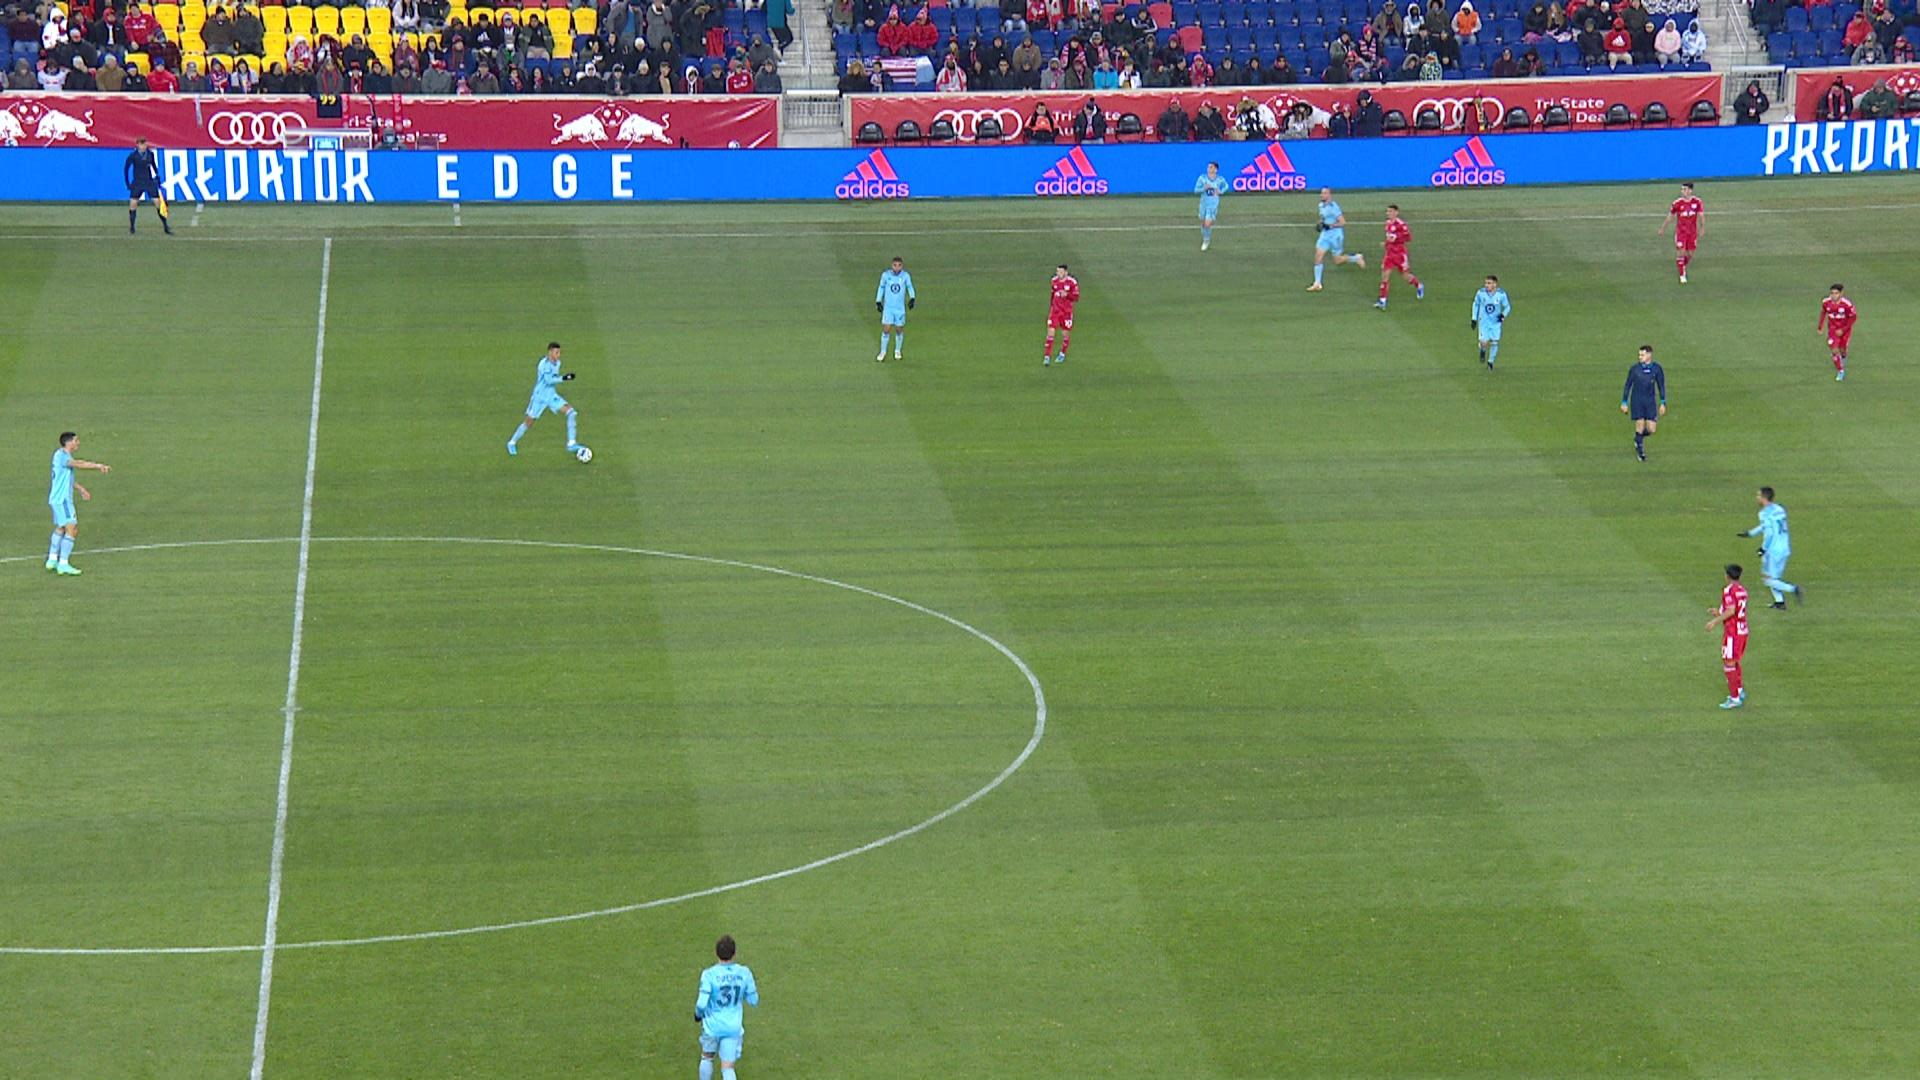football: (577, 447, 594, 464)
